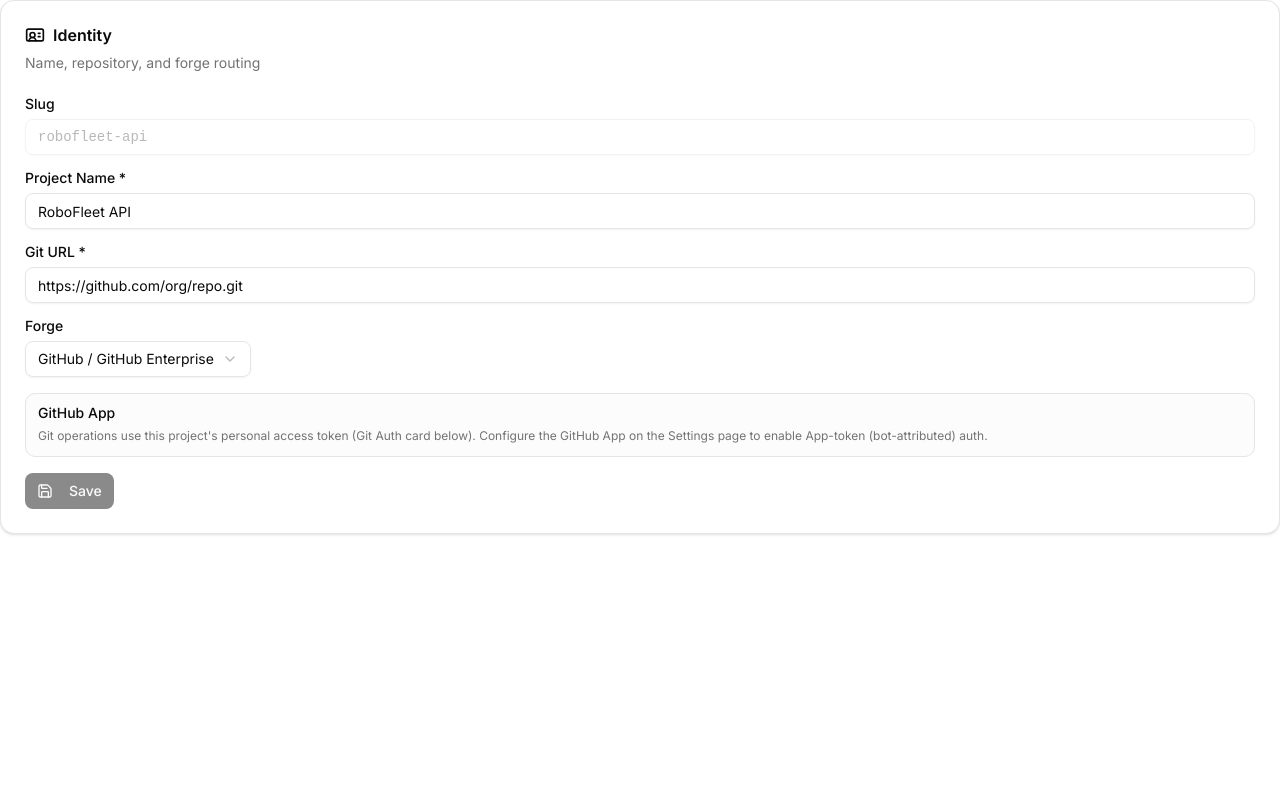
Test: IdentityCard › Save is disabled until a field is edited, then enables
This screenshot has width=1280, height=800.
expect the button "Save" is disabled: met, box [25, 473, 114, 509]
Type "Renamed" into the field labelled "Project Name *".
click(640, 211); type("Renamed")  # box [25, 193, 1255, 229]
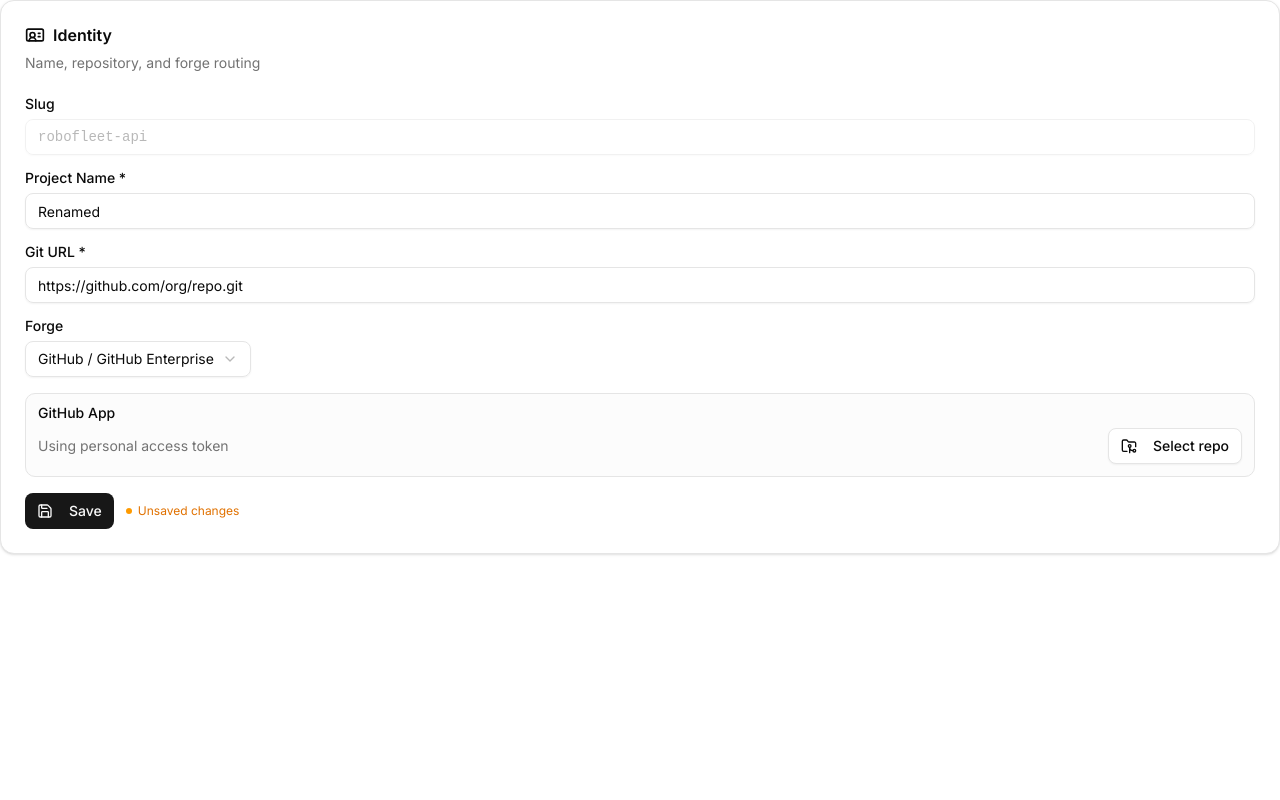
expect the button "Save" is enabled: met, box [25, 493, 114, 529]
expect the text "Unsaved changes" is shown: met, box [126, 503, 239, 519]
